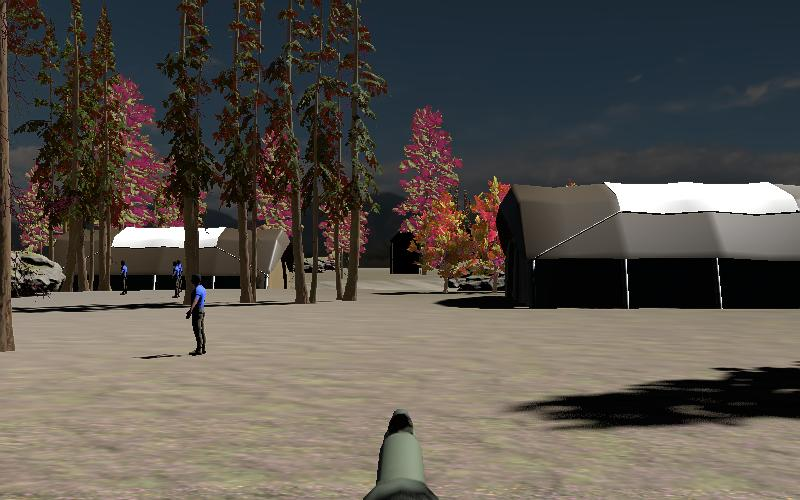Human: (185, 272, 208, 357), (168, 258, 184, 298), (117, 259, 131, 297)
car: (445, 273, 497, 294)
